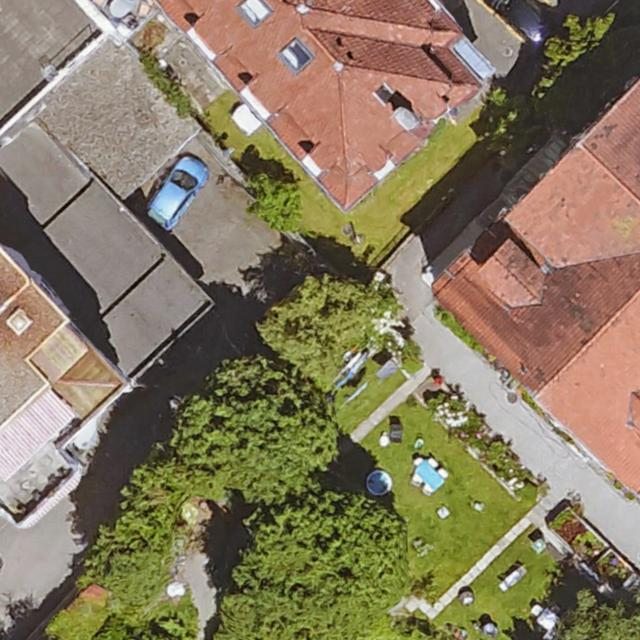tree: (236, 494, 406, 636), (174, 362, 333, 496), (513, 13, 640, 133), (258, 275, 399, 380), (561, 592, 640, 640), (249, 174, 301, 230)
